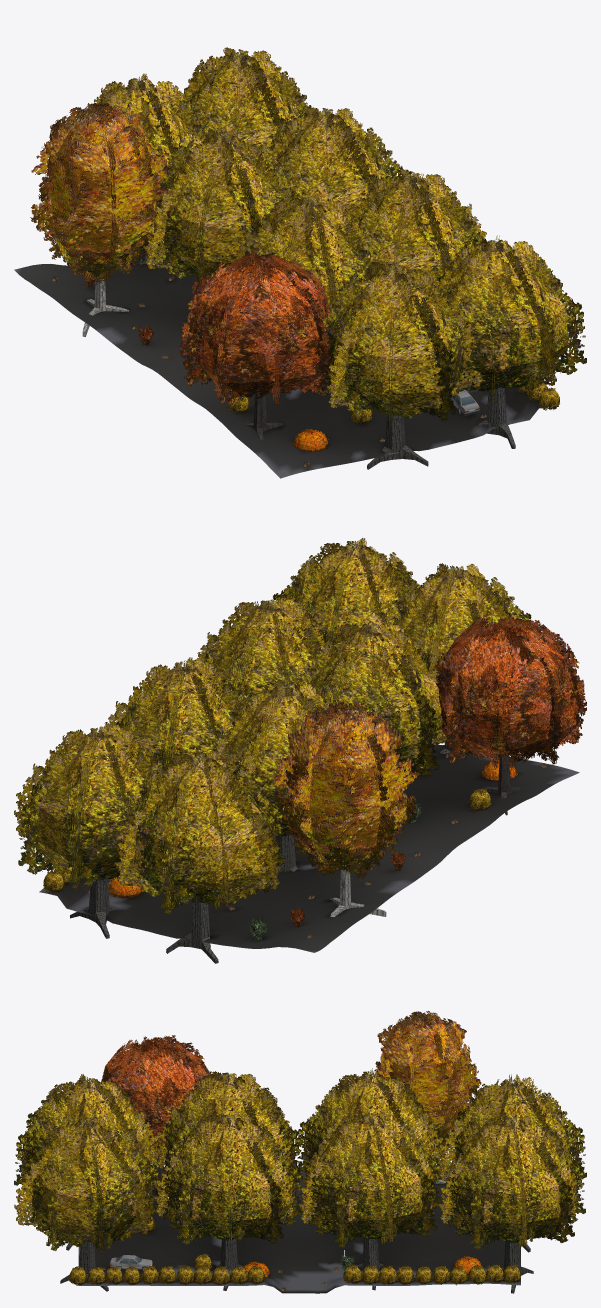
The model's file is OminousStreet.fbx.
3 renders of one model, top to bottom at view 1: azimuth 30°, elevation 25°; view 2: azimuth 150°, elevation 25°; view 3: azimuth 270°, elevation 25°, orthographic. The views are drawn at different scales.
Visible parts, largest first — view 1: Terrain, Tree1.013, Tree3, Tree2, Tree1.007, Tree1.010, Tree1, Tree1.004, Tree1.005, Tree1.001, Tree1.011, Bush6.002; view 2: Terrain, Tree1.011, Tree2, Tree3, Tree1.005, Tree1.001, Tree1.004, Tree1, Tree1.007, Tree1.010, Tree1.013; view 3: Terrain, Tree1, Tree1.005, Tree1.004, Tree1.007, Tree2, Tree3, Tree1.013, Tree1.010, Tree1.001, Tree1.011, Car.
Boxes of the visible parts, bbox=[...] form: Terrain: bbox=[14, 257, 541, 478]; Tree1.013: bbox=[312, 260, 483, 469]; Tree3: bbox=[179, 248, 331, 439]; Tree2: bbox=[30, 103, 170, 336]; Tree1.007: bbox=[435, 235, 586, 448]; Tree1.010: bbox=[142, 128, 293, 285]; Tree1: bbox=[347, 168, 486, 283]; Tree1.004: bbox=[262, 107, 411, 215]; Tree1.005: bbox=[177, 47, 311, 153]; Tree1.001: bbox=[229, 192, 379, 380]; Tree1.011: bbox=[87, 73, 208, 264]; Bush6.002: bbox=[293, 428, 328, 451]; Terrain: bbox=[39, 743, 579, 952]; Tree1.011: bbox=[115, 750, 285, 963]; Tree2: bbox=[273, 701, 417, 916]; Tree3: bbox=[433, 614, 586, 815]; Tree1.005: bbox=[14, 723, 175, 938]; Tree1.001: bbox=[295, 622, 449, 777]; Tree1.004: bbox=[104, 657, 250, 772]; Tree1: bbox=[192, 597, 335, 704]; Tree1.007: bbox=[273, 538, 430, 648]; Tree1.010: bbox=[211, 680, 334, 871]; Tree1.013: bbox=[387, 563, 532, 754]; Terrain: bbox=[78, 1168, 520, 1293]; Tree1: bbox=[154, 1114, 302, 1290]; Tree1.005: bbox=[438, 1115, 585, 1293]; Tree1.004: bbox=[299, 1111, 441, 1290]; Tree1.007: bbox=[14, 1115, 159, 1291]; Tree2: bbox=[374, 1011, 481, 1183]; Tree3: bbox=[101, 1035, 211, 1193]; Tree1.013: bbox=[14, 1074, 159, 1250]; Tree1.010: bbox=[296, 1068, 445, 1179]; Tree1.001: bbox=[155, 1071, 302, 1184]; Tree1.011: bbox=[437, 1074, 586, 1252]; Car: bbox=[109, 1255, 152, 1270].
Size of what is drawn, in the model's own units: 3694 by 2350 by 6476.
